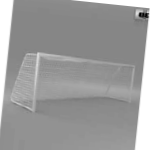goals: (10, 51, 136, 115)
